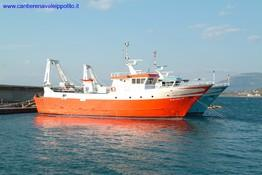otherboat: (28, 41, 229, 118)
